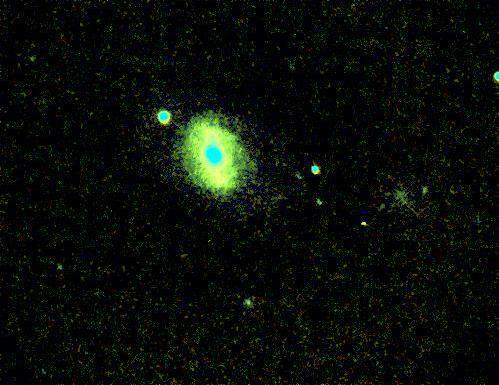star: (346, 209, 376, 239)
